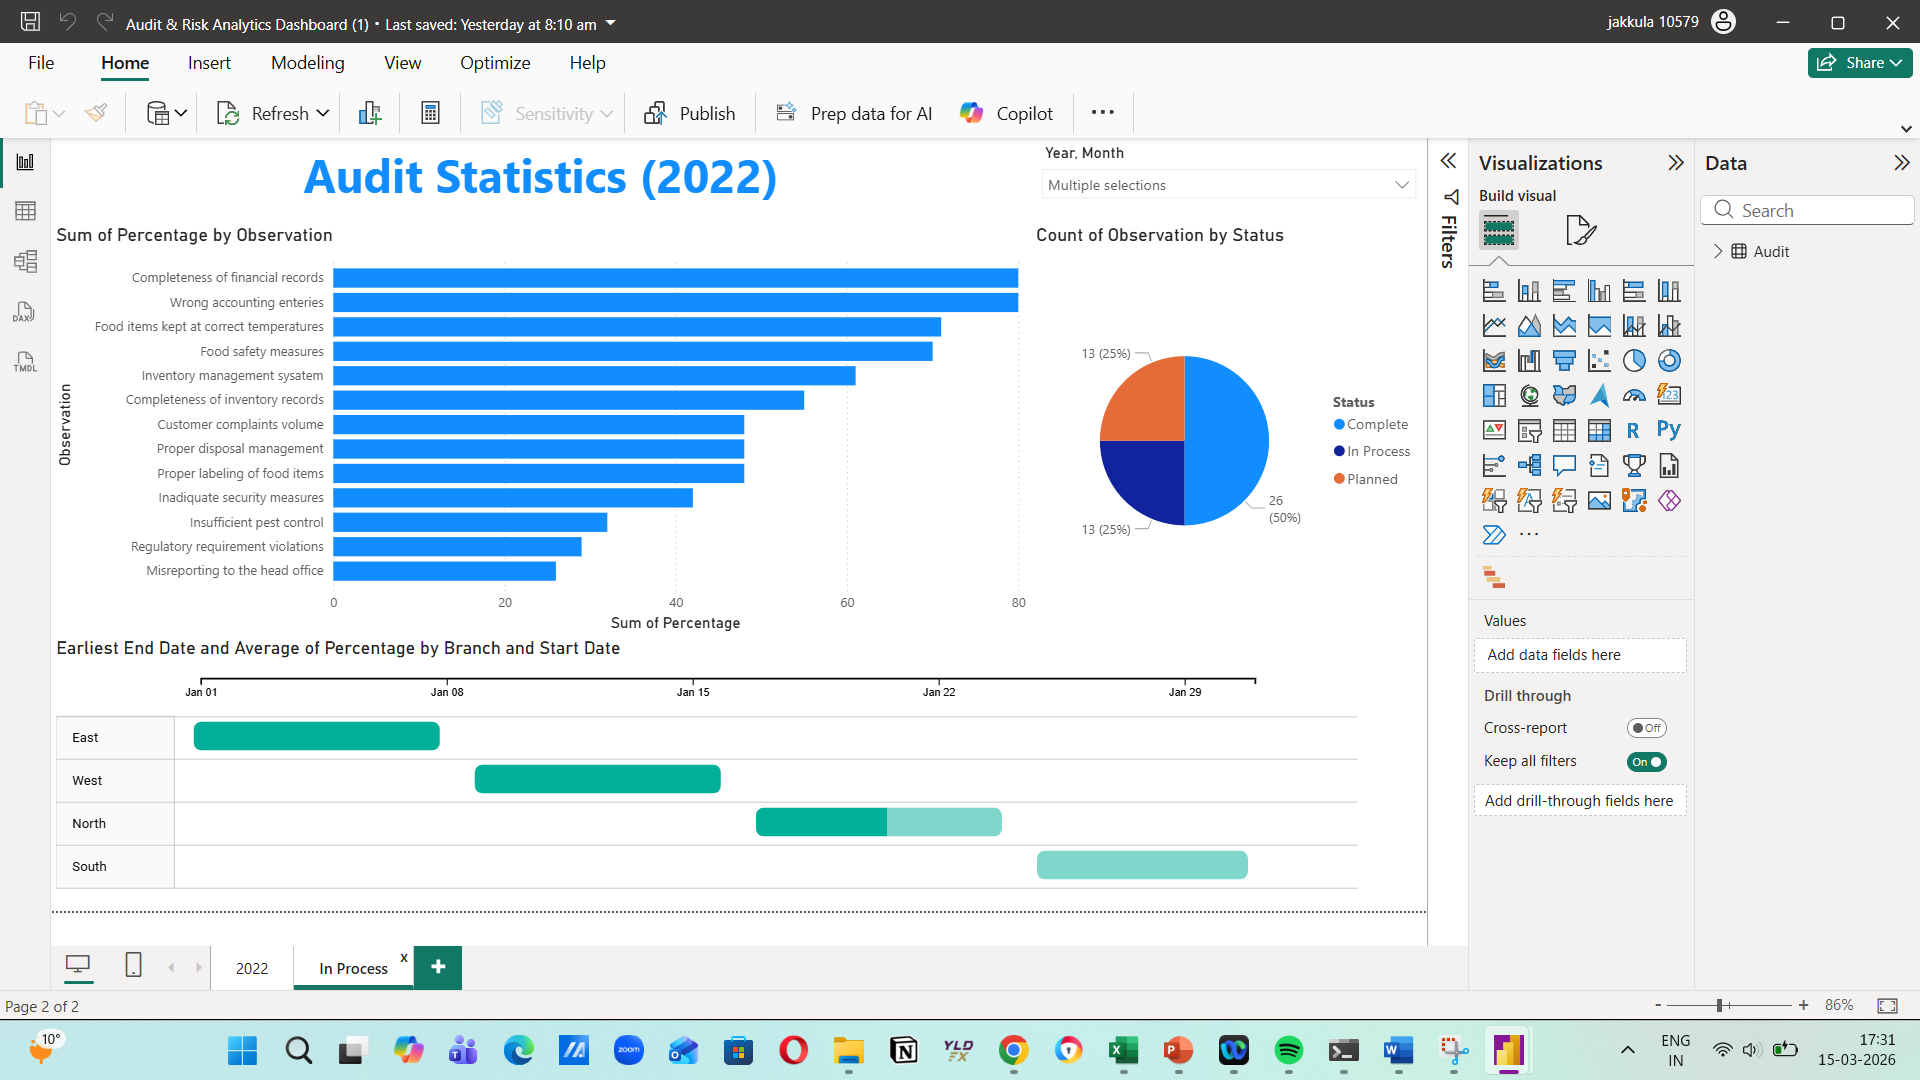

The dashboard page shown, as its layout file describes it:
{"tool":"powerbi","page":{"name":"In Process","canvas":[1280,720],"ordinal":1},"visuals":[{"type":"Gantt1448688115699","fields":{"StartDate":["Audit.Start Date"],"EndDate":["Min(Audit.End Date)"],"Completion":["Avg(Audit.Percentage)"],"Task":["Audit.Branch"]},"box":[0,464,1280,256],"z":0},{"type":"slicer","fields":{"Values":["Audit.Audit Period.Variation.Date Hierarchy.Year","Audit.Audit Period.Variation.Date Hierarchy.Month"]},"box":[912,0,368,80],"z":1000},{"type":"pieChart","fields":{"Category":["Audit.Status"],"Y":["CountNonNull(Audit.Observation)"]},"box":[912,80,368,384],"z":2000},{"type":"barChart","fields":{"Category":["Audit.Observation"],"Y":["Sum(Audit.Percentage)"]},"box":[0,80,912,384],"z":3000},{"type":"textbox","box":[0,0,912,80],"z":4000}]}

Visuals, with their boxes on the page's 1280x720 design canvas (x1, y1, x2, y2). These are canvas units, not pixel positions in the 1920x1080 screenshot, which may show the page scaled, cropped or inside an application window:
Gantt1448688115699 - Audit.Start Date x Min(Audit.End Date): [0,464,1280,720]
slicer - Audit.Audit Period.Variation.Date Hierarchy.Year x Audit.Audit Period.Variation.Date Hierarchy.Month: [912,0,1280,80]
pieChart - Audit.Status x CountNonNull(Audit.Observation): [912,80,1280,464]
barChart - Audit.Observation x Sum(Audit.Percentage): [0,80,912,464]
textbox: [0,0,912,80]
